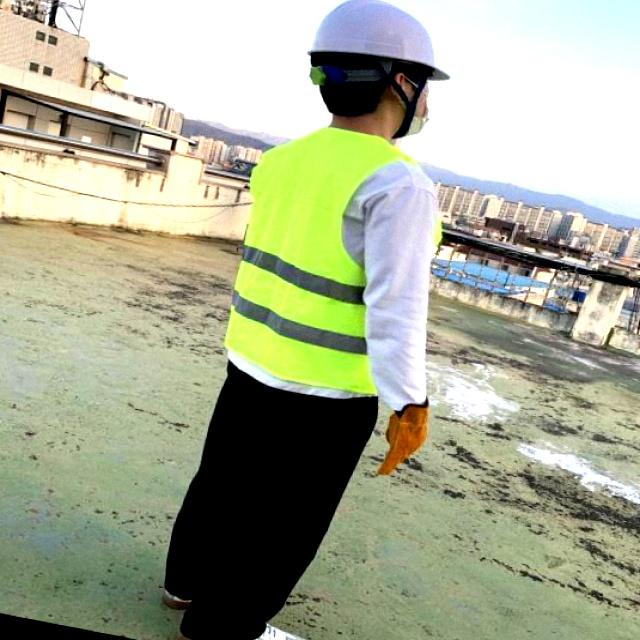helmet: (296, 0, 456, 83)
safety_vest: (225, 127, 420, 405)
